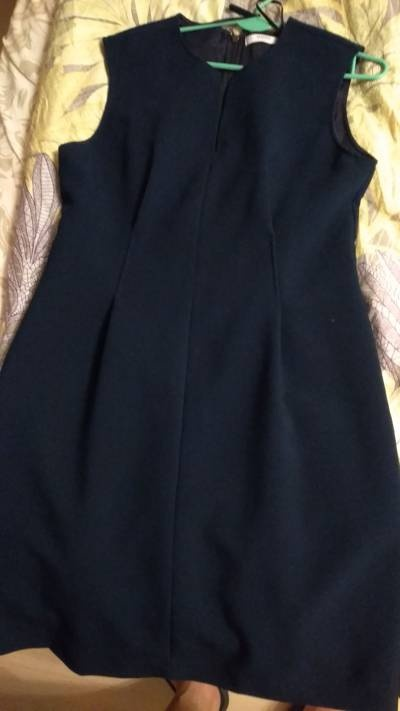Dress: (12, 10, 397, 708)
